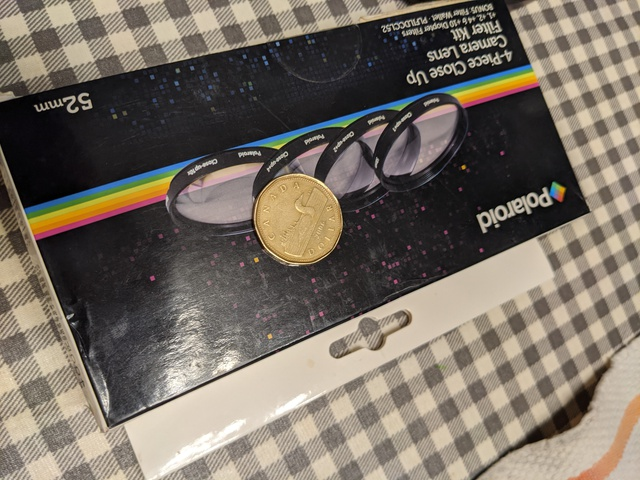loonie: (251, 167, 354, 274)
